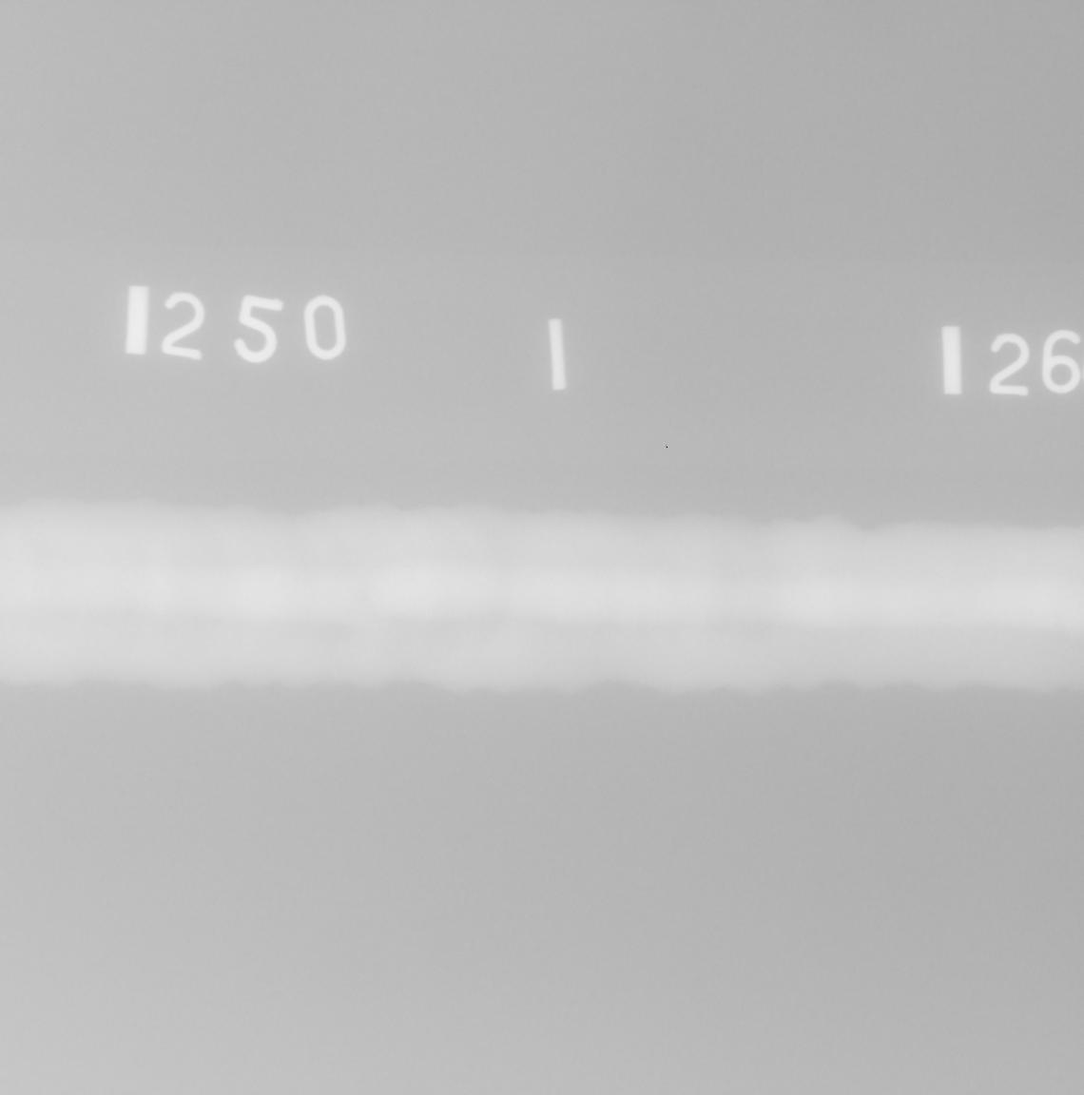Inclusion: (360, 598, 369, 601)
Pore/Porosity: (764, 577, 769, 580), (793, 578, 797, 580)
